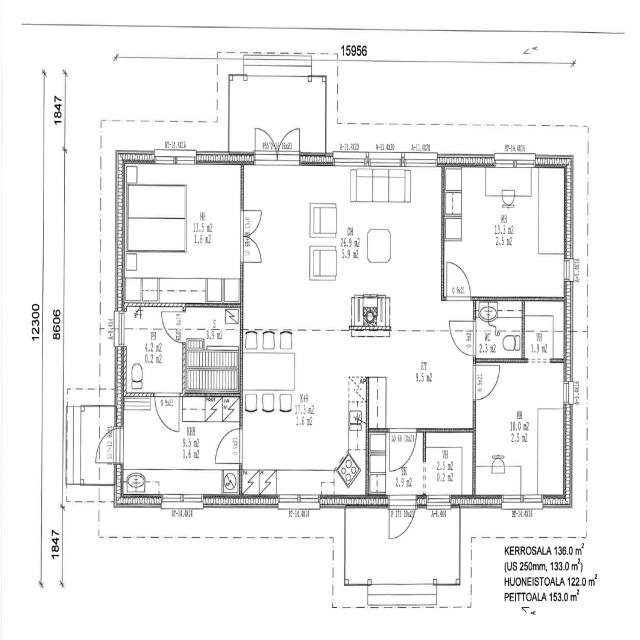door: (446, 257, 476, 355), (250, 124, 304, 162), (240, 205, 267, 265), (210, 423, 244, 469), (388, 426, 418, 474), (152, 389, 183, 435), (443, 256, 473, 302), (387, 495, 417, 541), (472, 358, 501, 402), (448, 316, 476, 358), (91, 429, 120, 466), (159, 308, 185, 344)
window: (156, 490, 208, 513), (149, 146, 199, 169), (275, 490, 326, 510), (489, 153, 538, 172), (329, 150, 372, 169), (424, 492, 455, 513), (561, 378, 580, 411), (561, 256, 576, 288), (501, 491, 529, 508), (517, 491, 544, 508), (527, 356, 553, 366)
zone: (245, 164, 451, 332), (240, 328, 368, 498), (122, 161, 244, 307), (442, 164, 570, 298), (474, 358, 571, 498), (115, 395, 243, 500), (122, 308, 184, 398), (184, 305, 240, 397), (422, 429, 475, 502), (474, 297, 524, 362), (522, 296, 566, 362), (366, 428, 388, 490)
